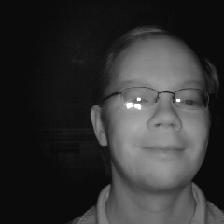happy: (78, 20, 224, 197)
